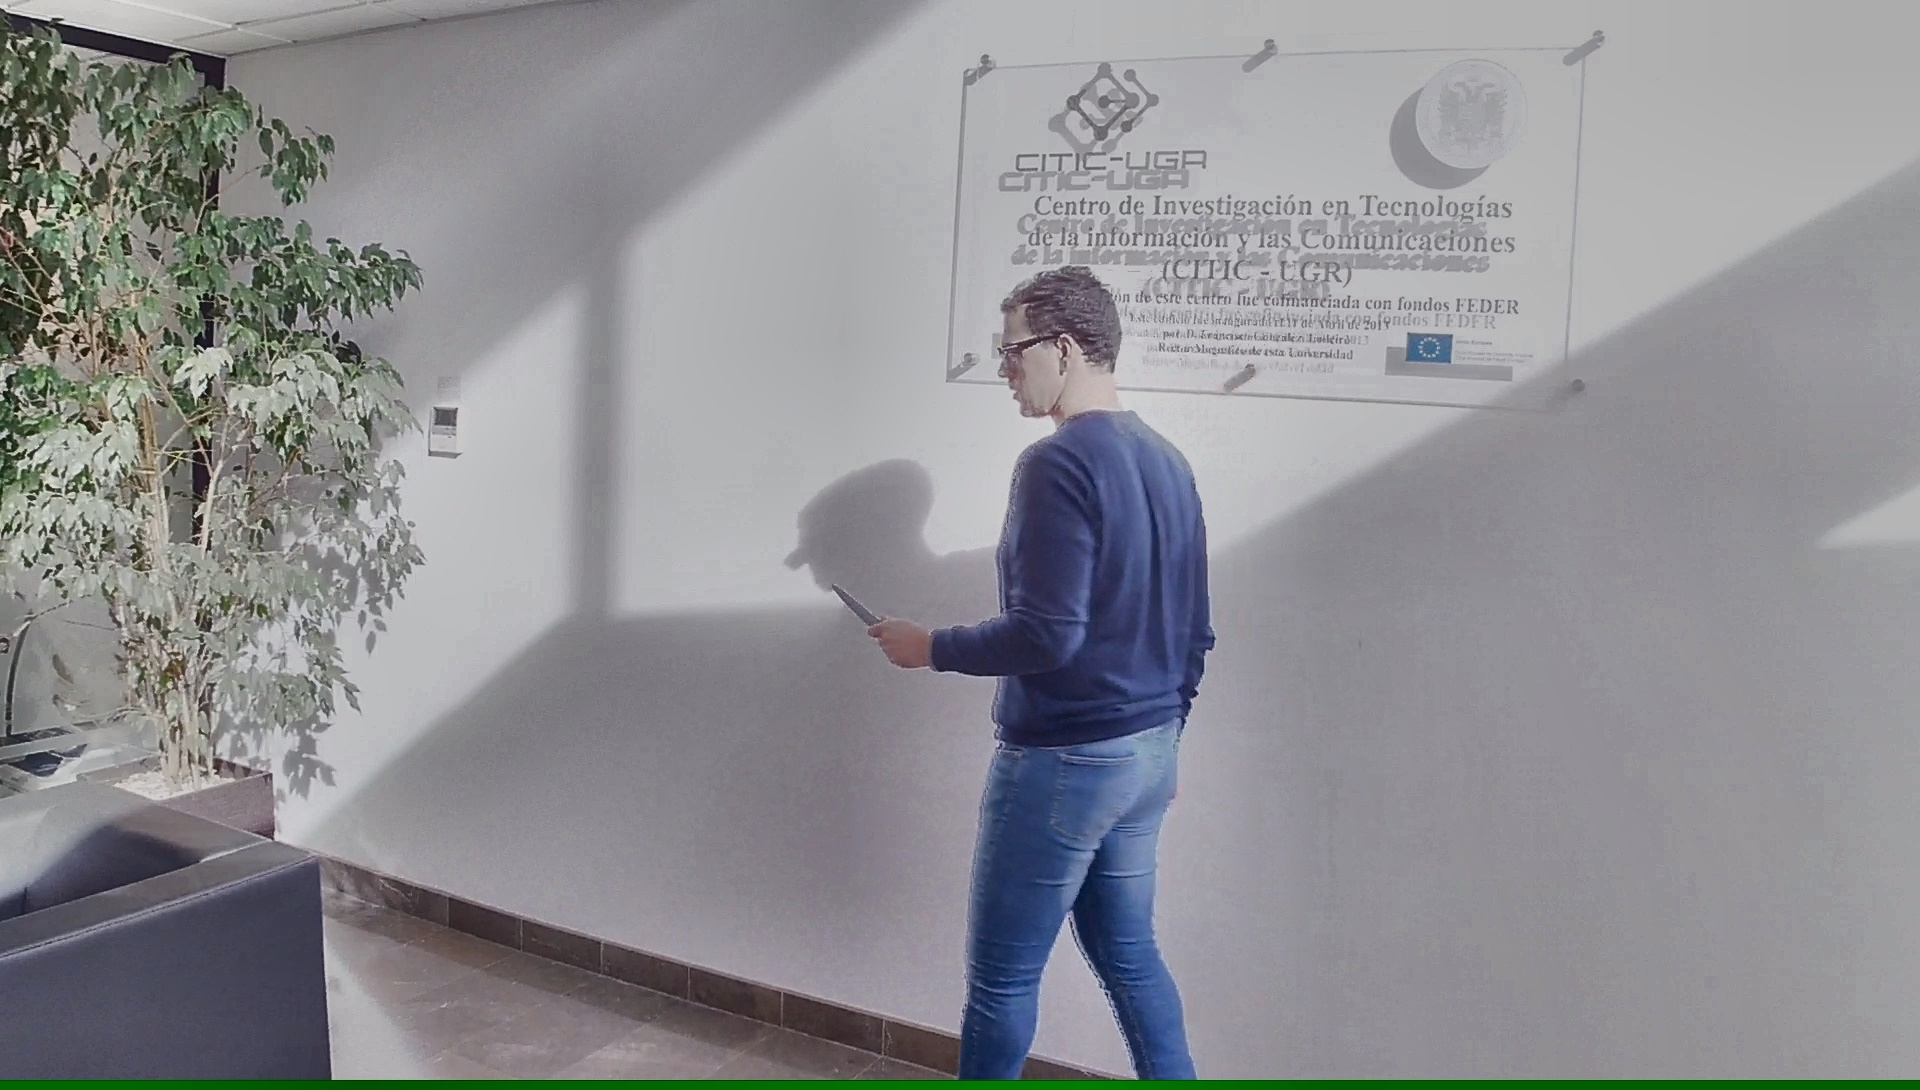knife: (824, 573, 909, 663)
